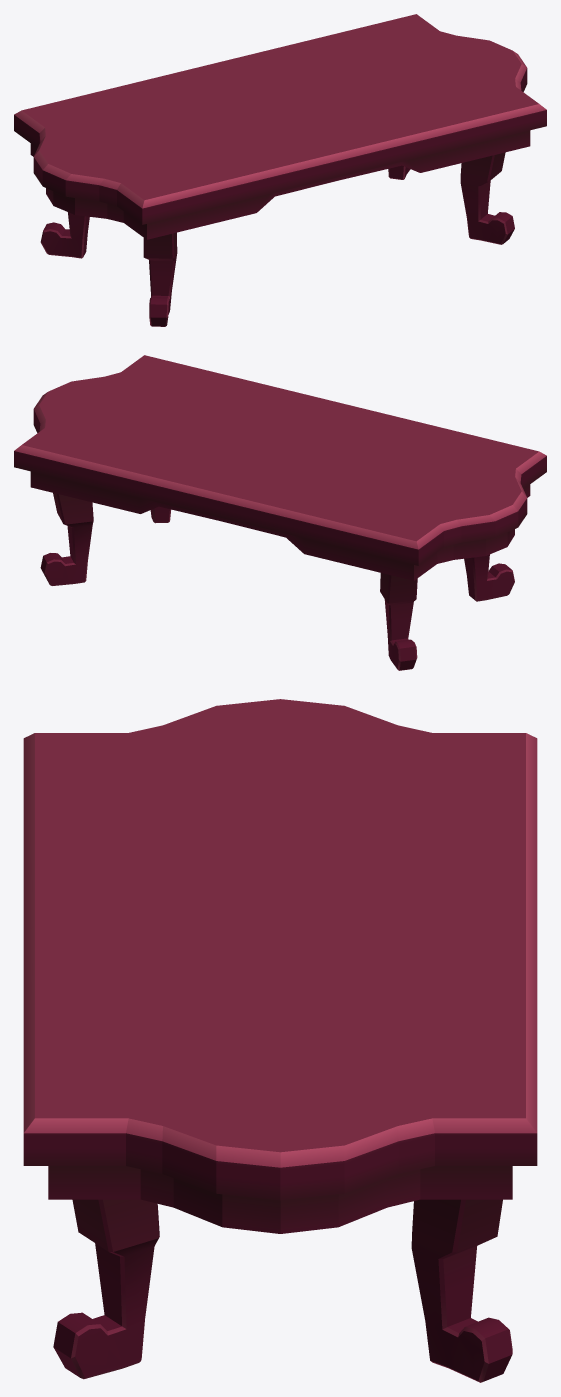
The model's file is coffeetable.fbx.
3 renders of one model, top to bottom at view 1: azimuth 30°, elevation 25°; view 2: azimuth 150°, elevation 25°; view 3: azimuth 270°, elevation 25°, orthographic. The views are drawn at different scales.
Visible parts, largest first — view 1: coffeetable; view 2: coffeetable; view 3: coffeetable.
Part boxes in pixels (x1,y1,x2,y2): coffeetable: (14, 14, 546, 326); coffeetable: (14, 355, 546, 670); coffeetable: (23, 699, 537, 1382).
Bounding box in the file's own units: 1.03 × 0.2897 × 0.4813.
1 material, 1 textured.
